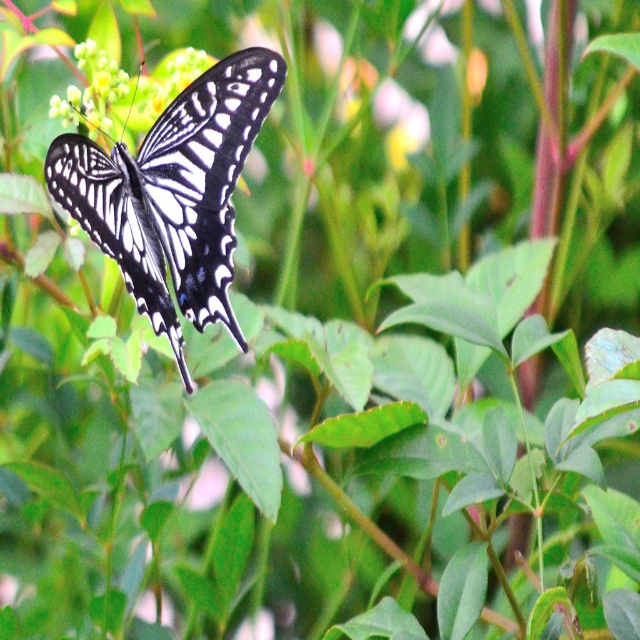Butterfly: (38, 34, 279, 378)
